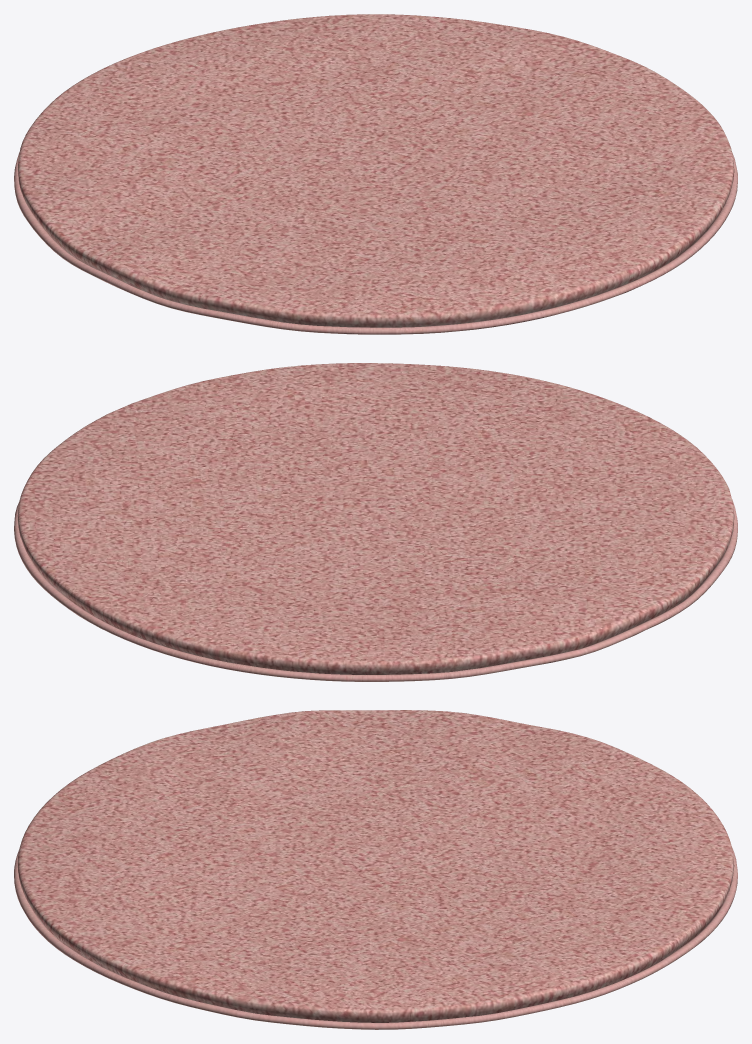
Rendered from stoense_dywan_z_krotkim_wosiem_60628890.glb.
The picture shows the model from 3 angles, top to bottom: view 1: azimuth 30°, elevation 25°; view 2: azimuth 150°, elevation 25°; view 3: azimuth 270°, elevation 25°; orthographic projection.
Parts seen in each view (by area): view 1: stoense_dywan_z_krotkim_wosiem_60628890; view 2: stoense_dywan_z_krotkim_wosiem_60628890; view 3: stoense_dywan_z_krotkim_wosiem_60628890.
Boxes of the visible parts, left/top/right/bottom form: stoense_dywan_z_krotkim_wosiem_60628890: left=14, top=14, right=737, bottom=334; stoense_dywan_z_krotkim_wosiem_60628890: left=14, top=363, right=737, bottom=681; stoense_dywan_z_krotkim_wosiem_60628890: left=14, top=710, right=737, bottom=1029.
Bounding box in the file's own units: 0.6966 × 0.0218 × 0.6967.
Materials: 1 (1 with a texture image).
